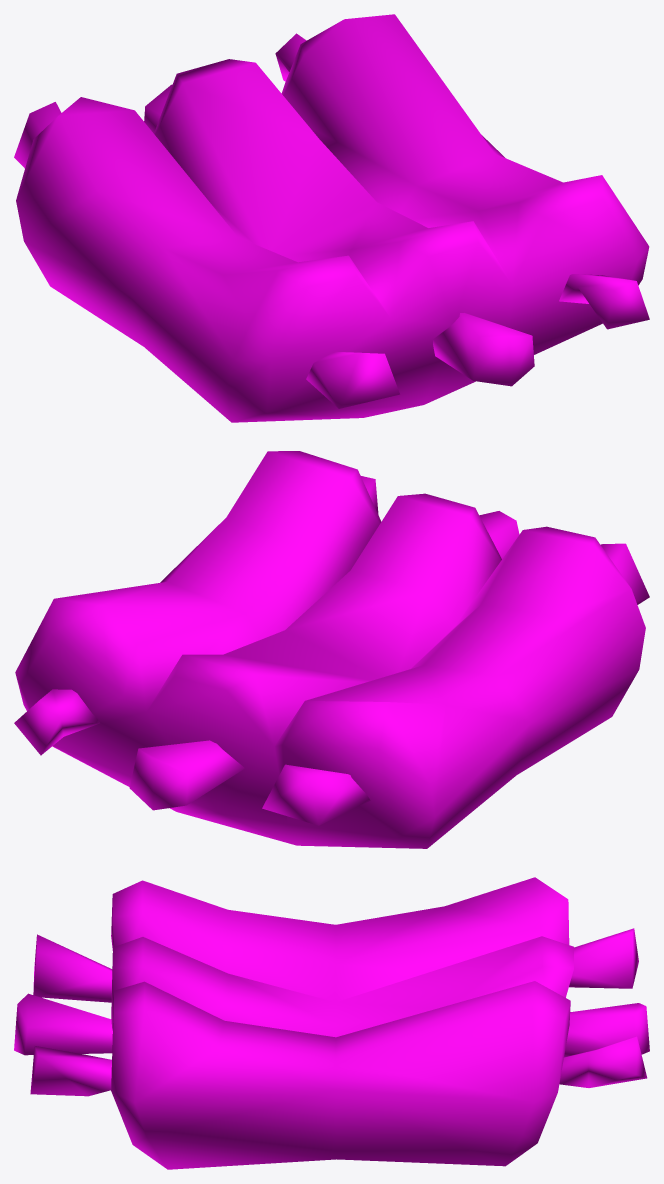
The model's file is meat_steak_meshCollider.fbx.
3 views of the same model, one above another, from view 1: azimuth 30°, elevation 25°; view 2: azimuth 150°, elevation 25°; view 3: azimuth 270°, elevation 25° (orthographic). The views are drawn at different scales.
Parts seen in each view (by area): view 1: foods_meat_steak_meshCollider; view 2: foods_meat_steak_meshCollider; view 3: foods_meat_steak_meshCollider.
Boxes of the visible parts, bbox=[...] form: foods_meat_steak_meshCollider: bbox=[14, 14, 649, 422]; foods_meat_steak_meshCollider: bbox=[14, 451, 649, 848]; foods_meat_steak_meshCollider: bbox=[14, 877, 649, 1169].
Bounding box in the file's own units: 12.51 × 6.02 × 17.95.
